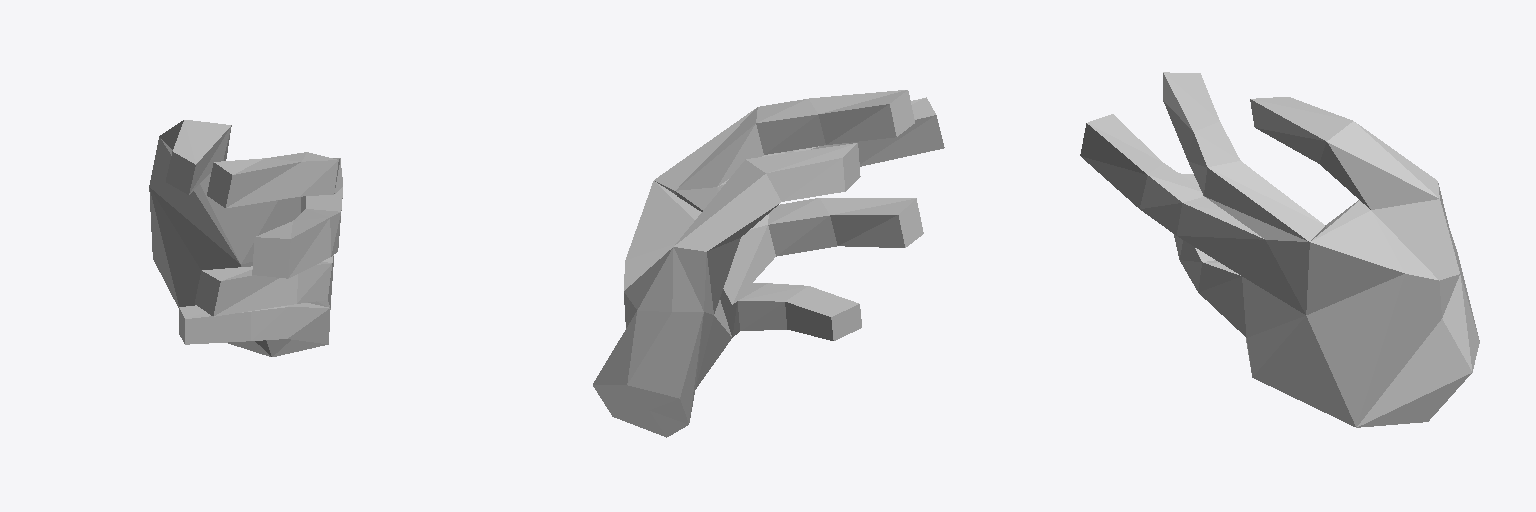
The model's file is RecorderHandLeft11.obj.
The picture shows the model from 3 angles: view 1: azimuth 30°, elevation 25°; view 2: azimuth 150°, elevation 25°; view 3: azimuth 270°, elevation 25°; orthographic projection.
Parts seen in each view (by area): view 1: Converted object 0; view 2: Converted object 0; view 3: Converted object 0.
Boxes of the visible parts, box(x1,y1,x2,y2) form: Converted object 0: box(149, 120, 342, 356); Converted object 0: box(593, 90, 944, 437); Converted object 0: box(1080, 72, 1479, 427).
Size of the model in its own units: 3.25 by 4.49 by 5.66.